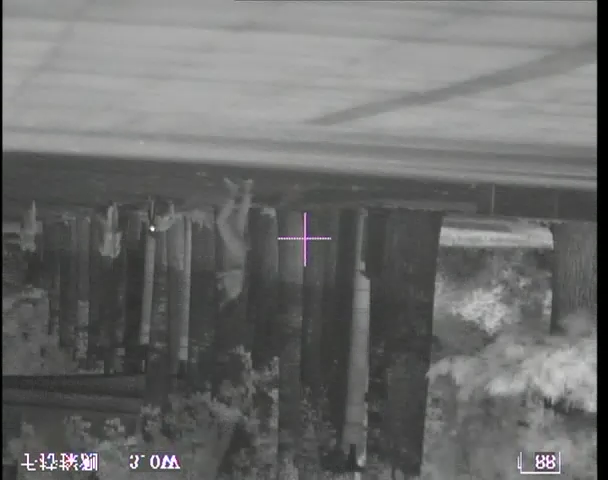my: (149, 225, 157, 233)
